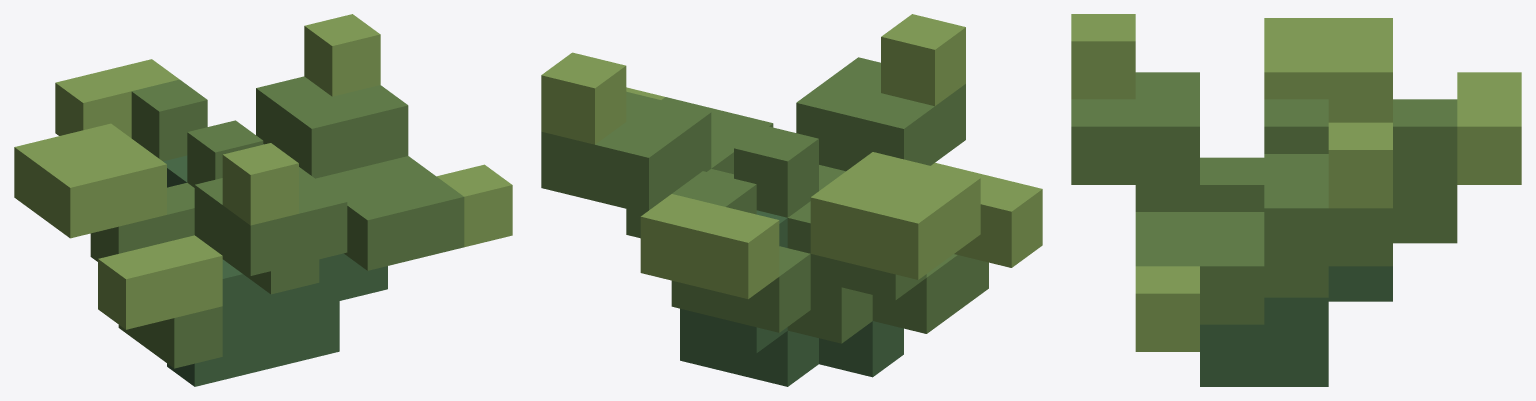
File: hearthvale_foliage_leafy.obj
3 renders of one model, left to right at view 1: azimuth 30°, elevation 25°; view 2: azimuth 150°, elevation 25°; view 3: azimuth 270°, elevation 25°, orthographic. The views are drawn at different scales.
Visible parts, largest first — view 1: palette_2, palette_4, palette_3; view 2: palette_2, palette_4, palette_3; view 3: palette_2, palette_4, palette_3.
Boxes of the visible parts, x1,y1,x2,y2 form: palette_2: (90,76,464,368); palette_4: (14,14,512,329); palette_3: (163,155,387,386); palette_2: (541,57,988,343); palette_4: (541,14,1042,299); palette_3: (680,210,903,386); palette_2: (1071,72,1457,324); palette_4: (1071,14,1521,351); palette_3: (1200,266,1392,386).
Bounding box in the file's own units: 0.5 × 0.3125 × 0.4375.
